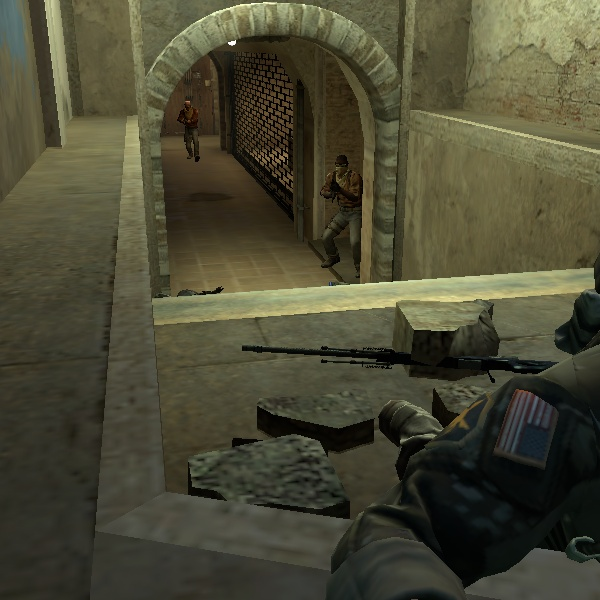t_body: (309, 146, 382, 272), (170, 95, 206, 163)
t_head: (327, 150, 357, 182), (178, 96, 197, 116)
